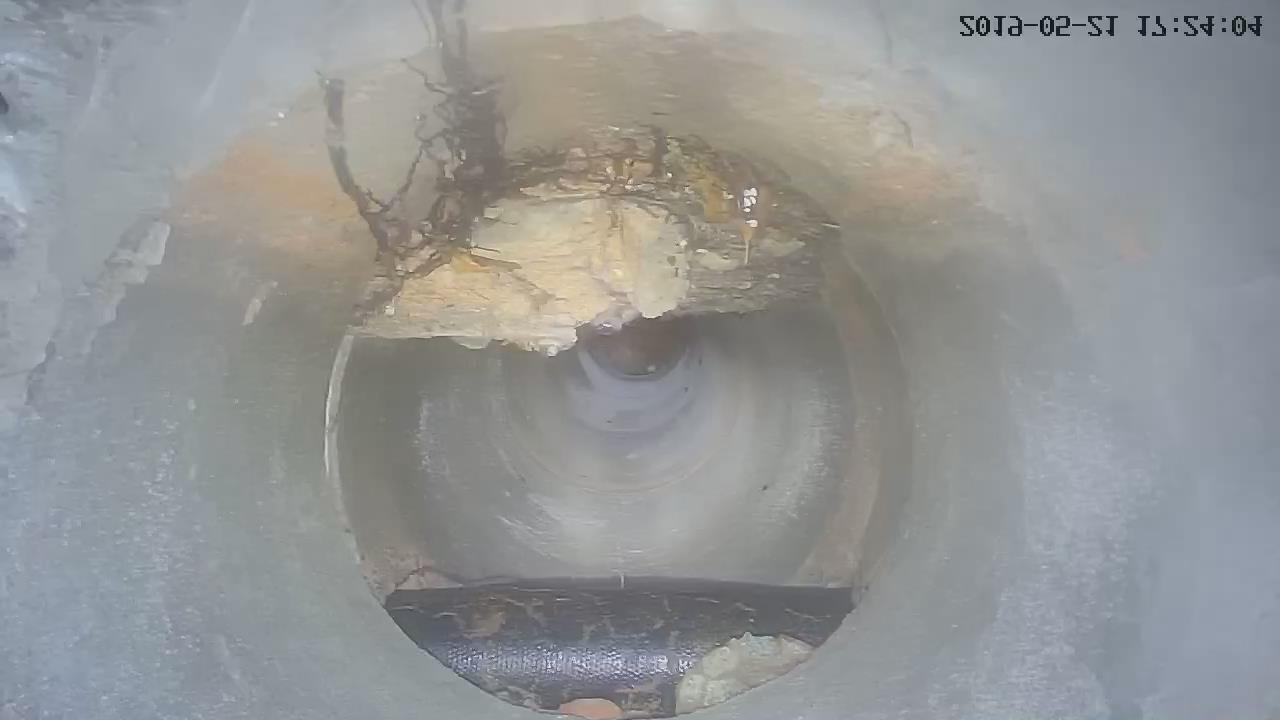CJ: (346, 131, 837, 355)
YWCR: (383, 584, 856, 720)
